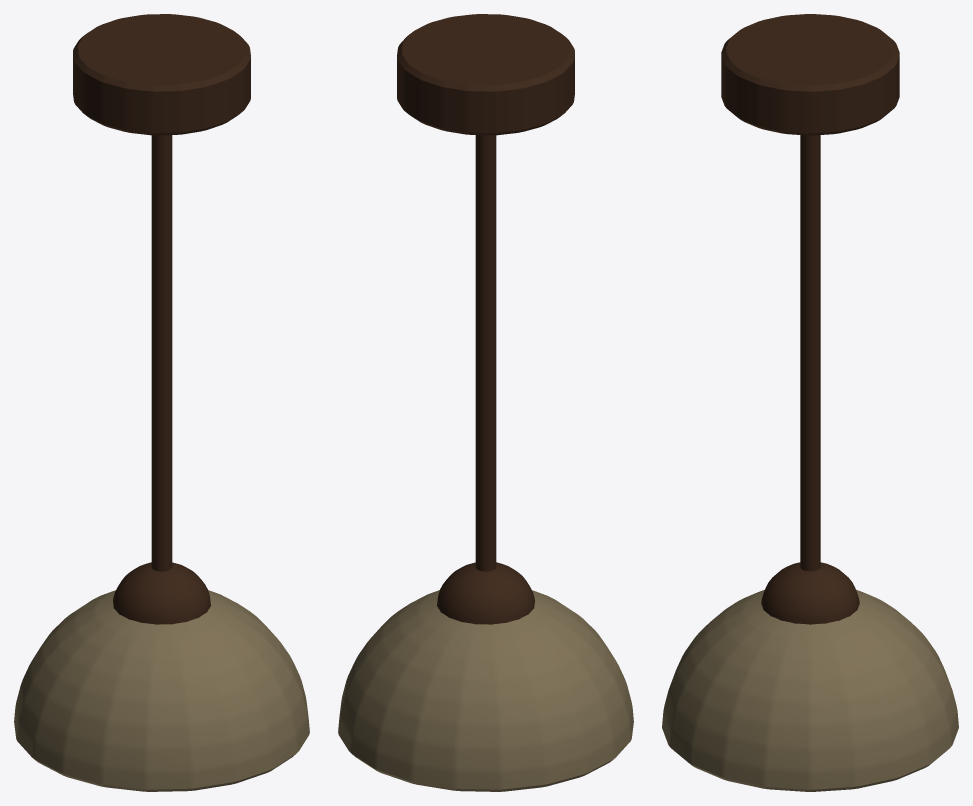
File: HangingLamp.fbx
3 renders of one model, left to right at view 1: azimuth 30°, elevation 25°; view 2: azimuth 150°, elevation 25°; view 3: azimuth 270°, elevation 25°, orthographic.
Visible parts, largest first — view 1: pSphere4; view 2: pSphere4; view 3: pSphere4.
Part boxes in pixels (left/top/right/bottom): pSphere4: left=14, top=14, right=309, bottom=791; pSphere4: left=338, top=14, right=633, bottom=791; pSphere4: left=662, top=14, right=958, bottom=791.
Bounding box in the file's own units: 9.67 × 26.23 × 9.67.
